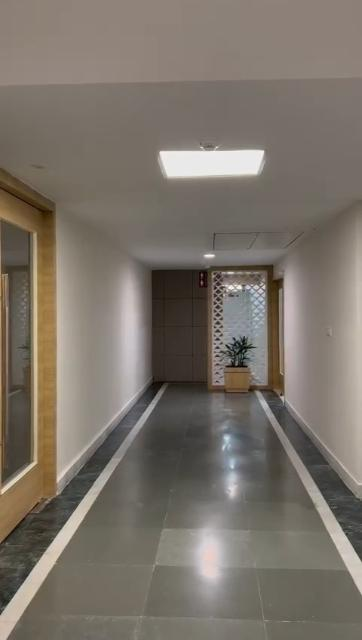door: (0, 182, 52, 506), (270, 280, 284, 390)
floor: (0, 385, 360, 640)
object: (223, 333, 253, 393)
wall: (61, 215, 148, 468), (283, 200, 361, 473)
